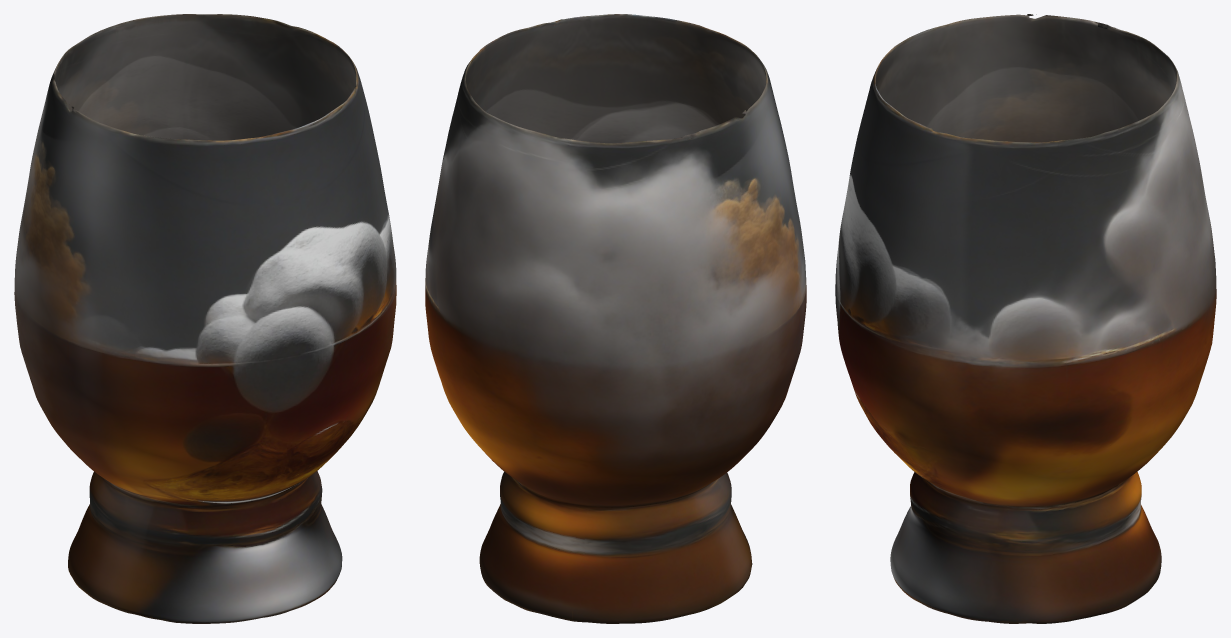
File: whisky_3d_model.glb
The picture shows the model from 3 angles, left to right: view 1: azimuth 30°, elevation 25°; view 2: azimuth 150°, elevation 25°; view 3: azimuth 270°, elevation 25°; orthographic projection.
Size of the model in its own units: 1.4 by 2 by 1.4.
1 material, 1 textured.
